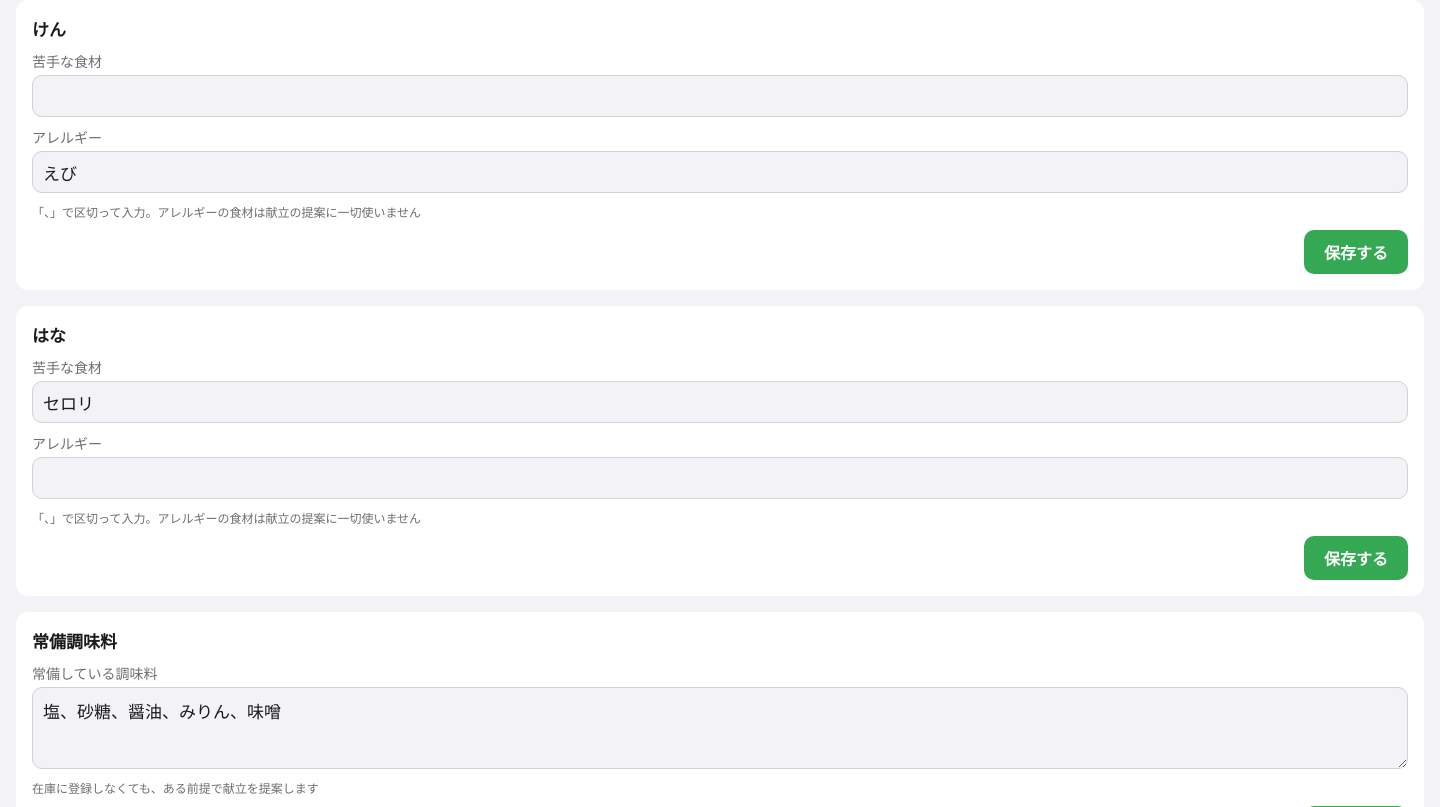
Test: SettingsScreen › もう一人の分も編集して保存できる
Replace the text in the field labelled "苦手な食材" below "はな" with "セロリ、パクチー" at [720, 402], box [32,381,1408,423]
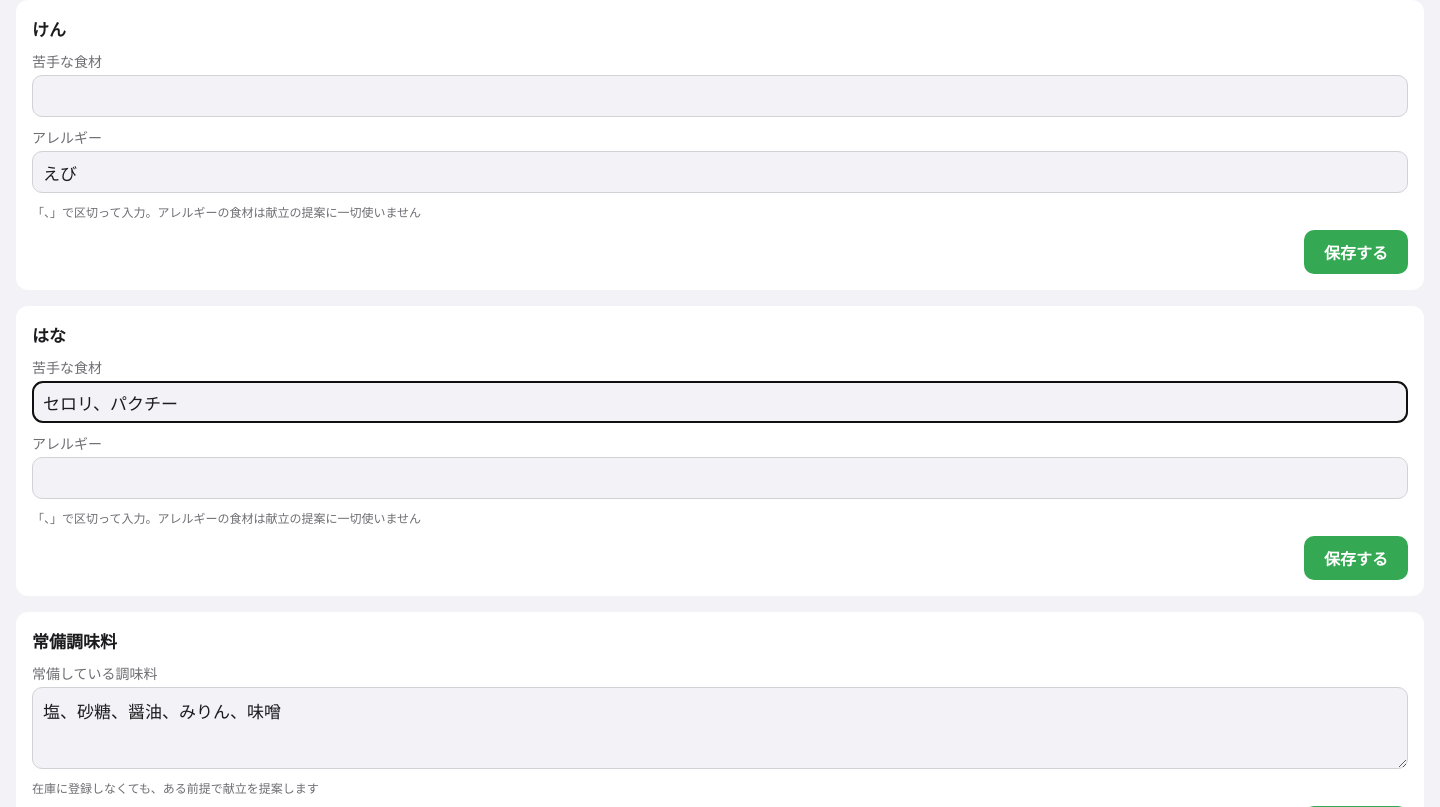
Type "そば" into the field labelled "アレルギー" below "はな" at [720, 478], box [32,457,1408,499]
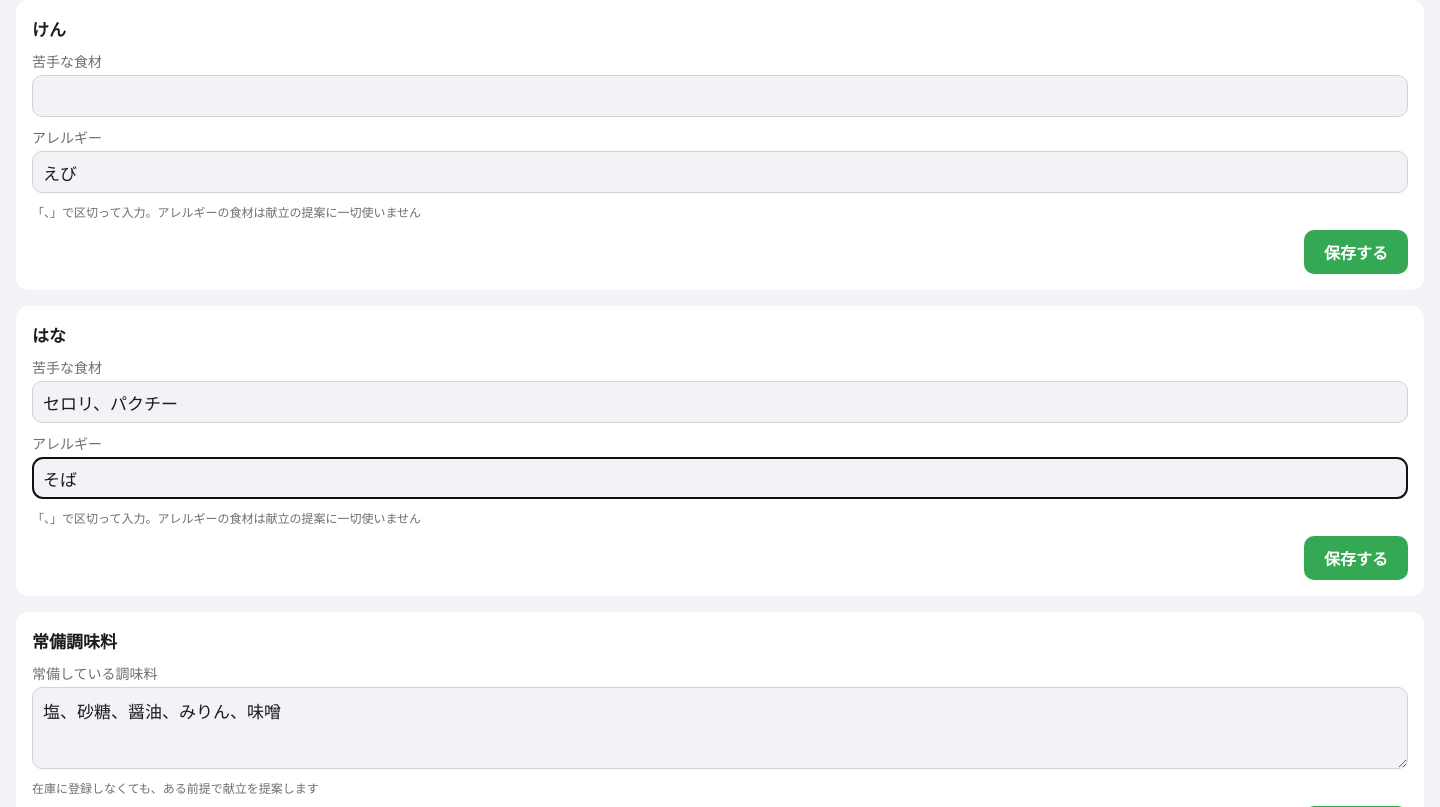
Click the 2nd button "保存する" at [1356, 558], box [1304,536,1408,580]
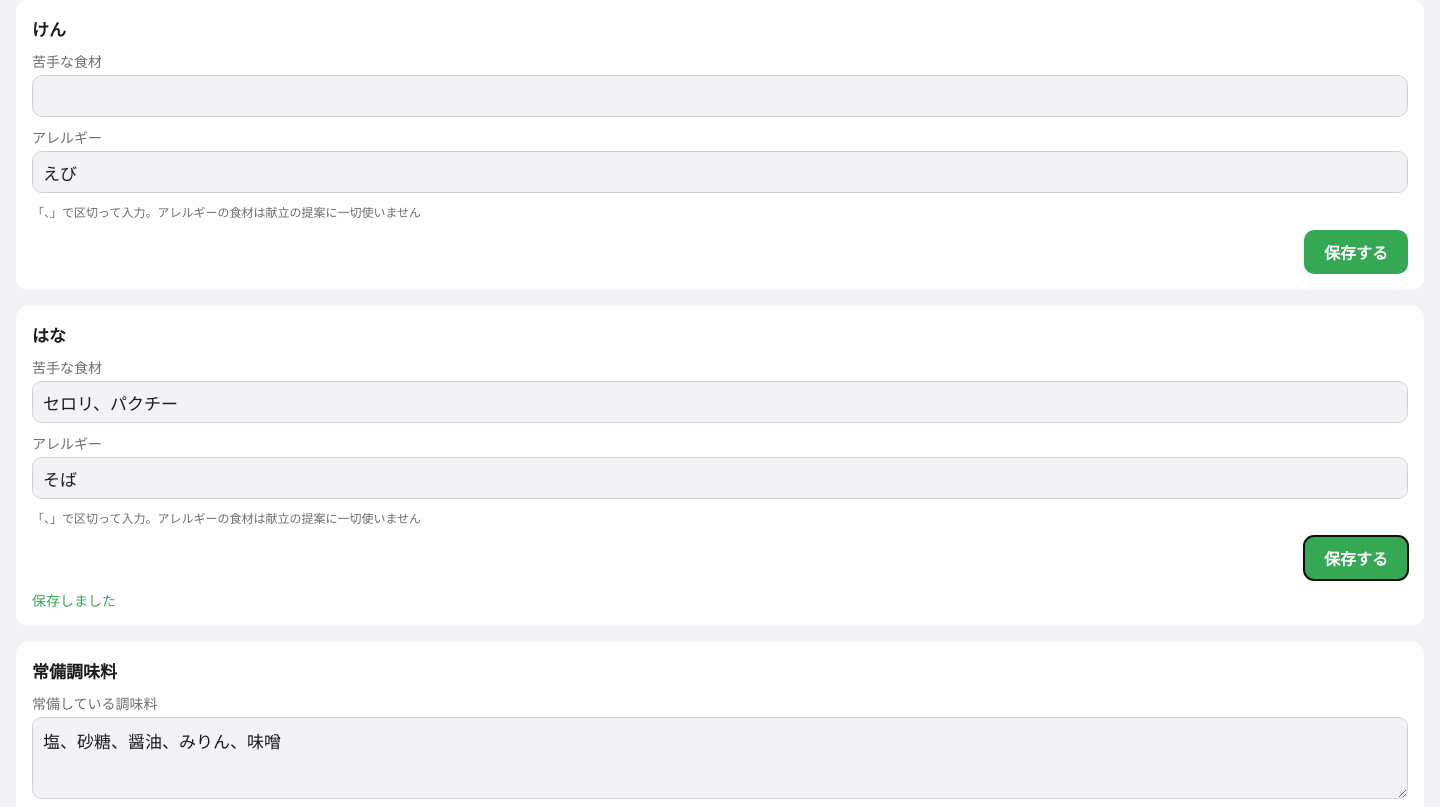
Result: the text "保存しました" is shown at [32,592,116,609]
